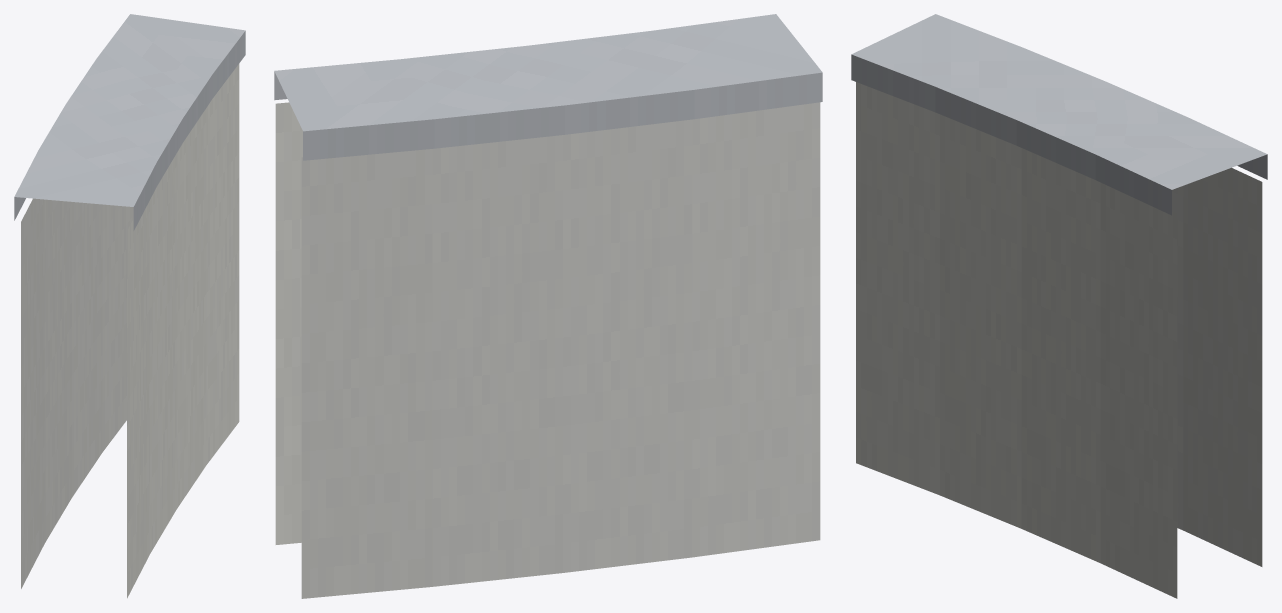
Rendered from curve_board_07.obj.
3 renders of one model, left to right at view 1: azimuth 30°, elevation 25°; view 2: azimuth 150°, elevation 25°; view 3: azimuth 270°, elevation 25°, orthographic. The views are drawn at different scales.
Visible parts, largest first — view 1: curve_board_07; view 2: curve_board_07; view 3: curve_board_07.
Boxes of the visible parts, x1,y1,x2,y2 form: curve_board_07: (14,14,245,598); curve_board_07: (274,14,822,598); curve_board_07: (851,14,1267,598).
Size of the model in its own units: 0.918 by 1 by 0.918.
